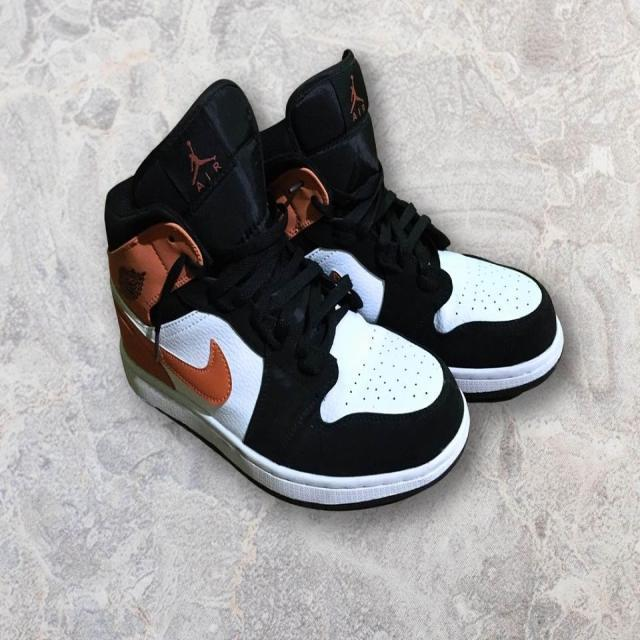nike fake jordan 1: (101, 79, 474, 512), (187, 43, 567, 406)
